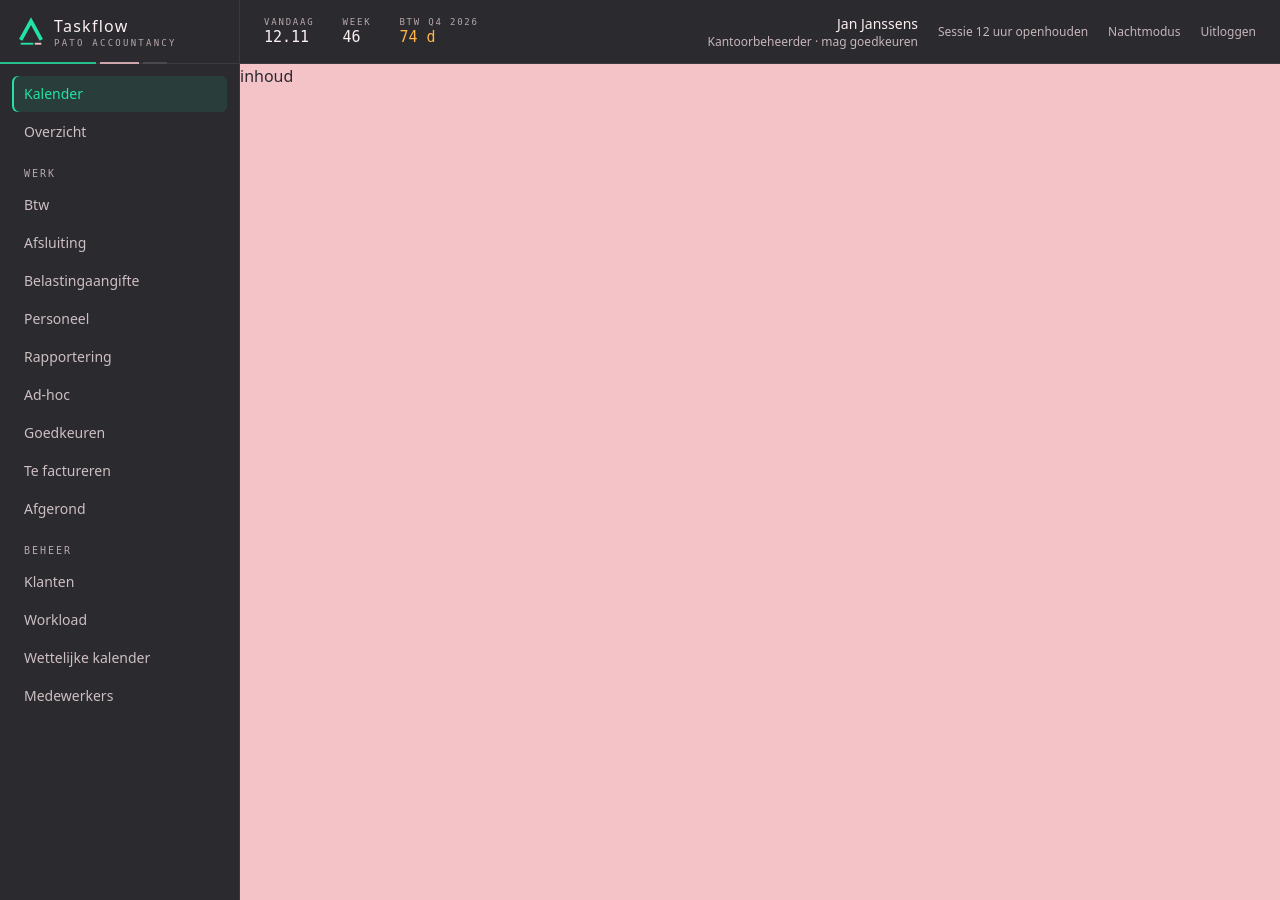
Test case: AppLayout — de nachtmodus › zet de hele app donker en onthoudt dat voor de volgende keer
Later steps or results of the test are not shown.
Click the button "Nachtmodus". click: click(1144, 32)
box: [1108, 24, 1180, 40]
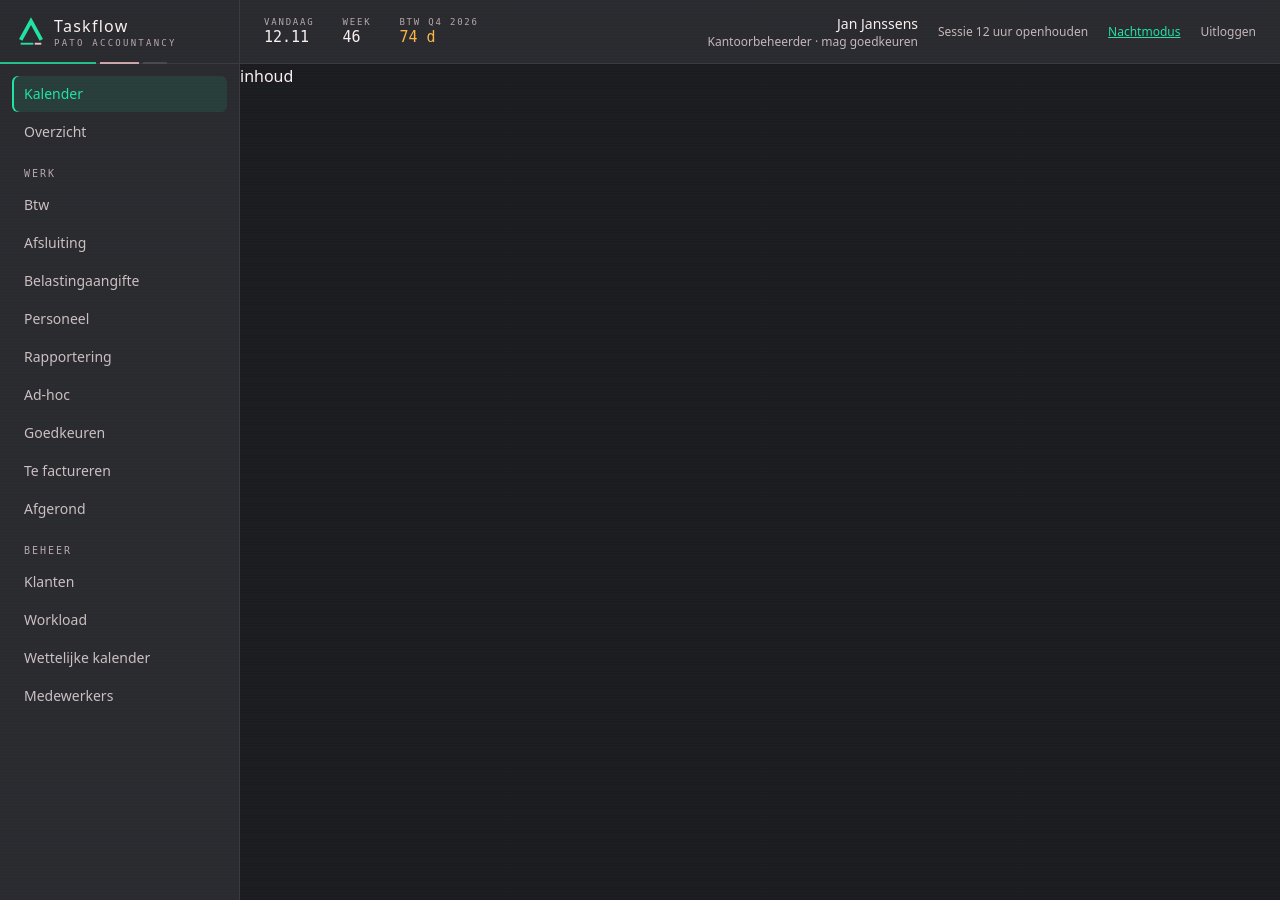
expect the button "Nachtmodus" is pressed: met, box [1108, 24, 1180, 40]
